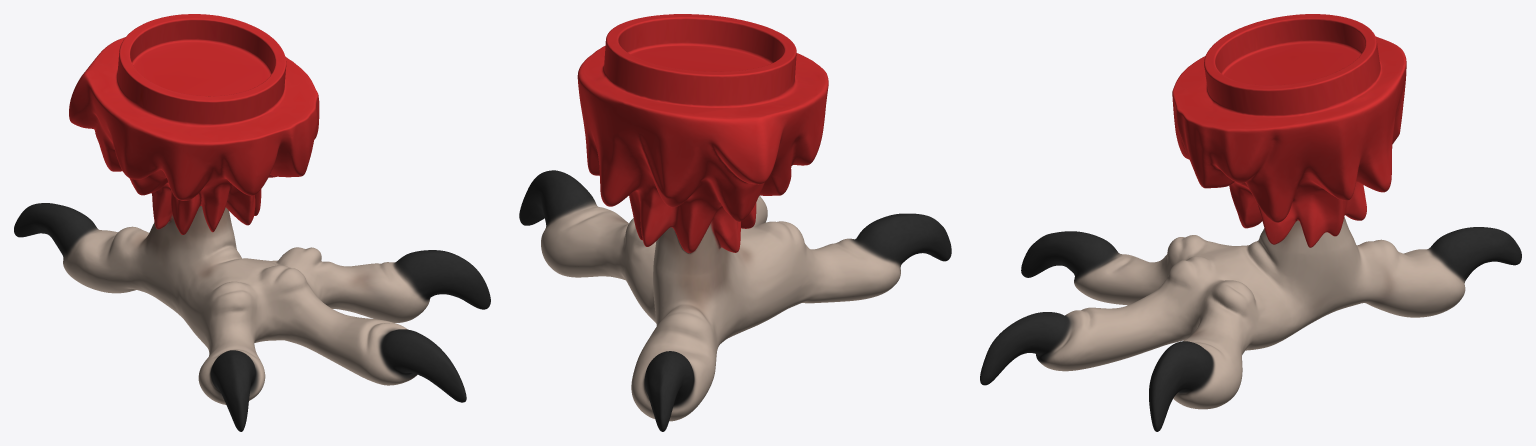
The model's file is Patte_Perroquet_lft.glb.
3 views of the same model, side by side, from view 1: azimuth 30°, elevation 25°; view 2: azimuth 150°, elevation 25°; view 3: azimuth 270°, elevation 25° (orthographic). The views are drawn at different scales.
Visible parts, largest first — view 1: Patte_Perroquet_lft; view 2: Patte_Perroquet_lft; view 3: Patte_Perroquet_lft.
Part boxes in pixels (box(x1,y1,x2,y2)): Patte_Perroquet_lft: box(14, 14, 490, 431); Patte_Perroquet_lft: box(519, 14, 951, 431); Patte_Perroquet_lft: box(980, 14, 1521, 431).
Size of the model in its own units: 2.73 by 2.27 by 3.85.
